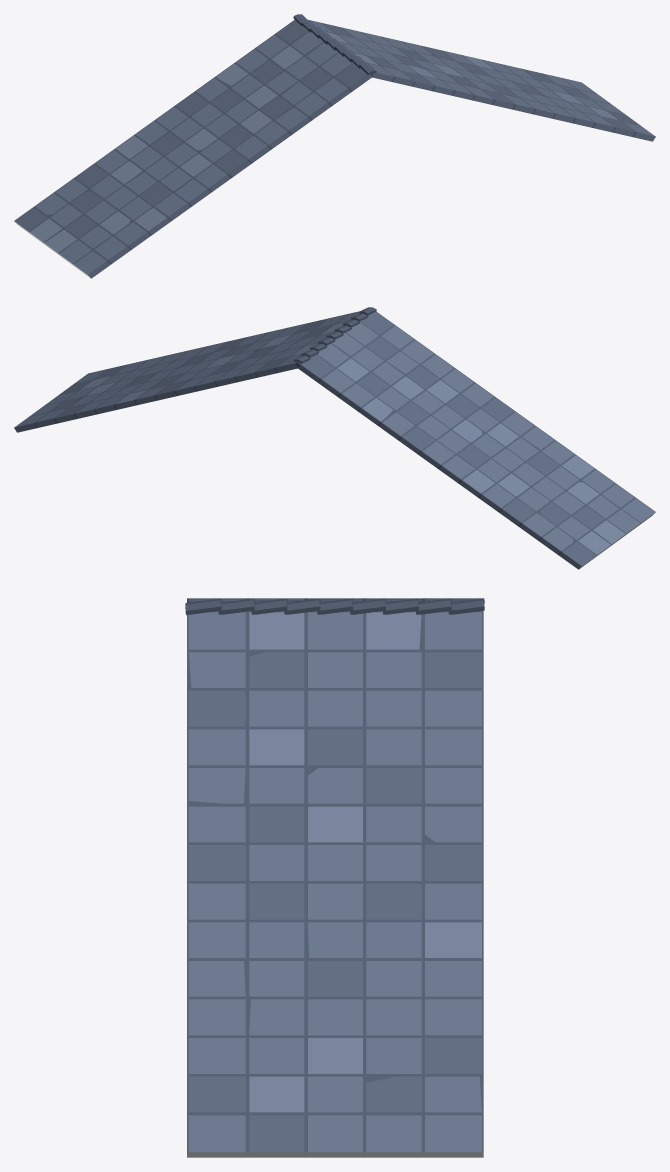
File: Roof5_C7_01.fbx
3 views of the same model, one above another, from view 1: azimuth 30°, elevation 25°; view 2: azimuth 150°, elevation 25°; view 3: azimuth 270°, elevation 25° (orthographic). The views are drawn at different scales.
Visible parts, largest first — view 1: Roof5_C7_01; view 2: Roof5_C7_01; view 3: Roof5_C7_01.
Boxes of the visible parts, x1,y1,x2,y2 form: Roof5_C7_01: (14,14,655,278); Roof5_C7_01: (14,307,655,569); Roof5_C7_01: (185,598,484,1157).
Size of the model in its own units: 1105 by 264 by 252.
